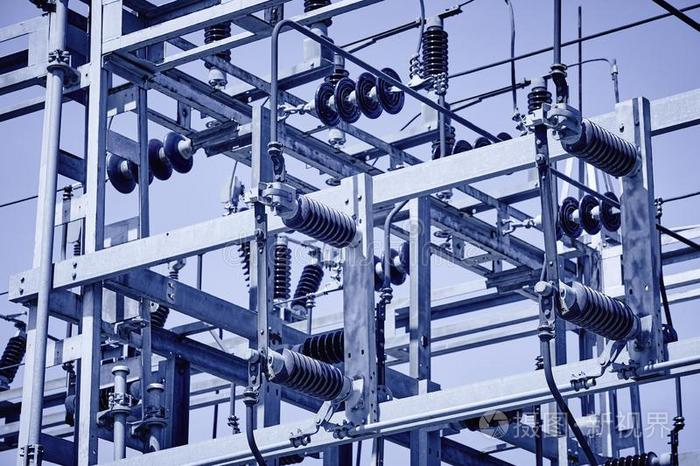insulator: (313, 65, 406, 122), (105, 132, 190, 190), (558, 191, 623, 240), (373, 242, 411, 283)
